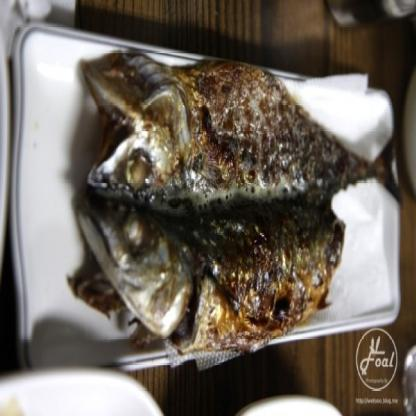Peixe: (55, 62, 408, 350)
